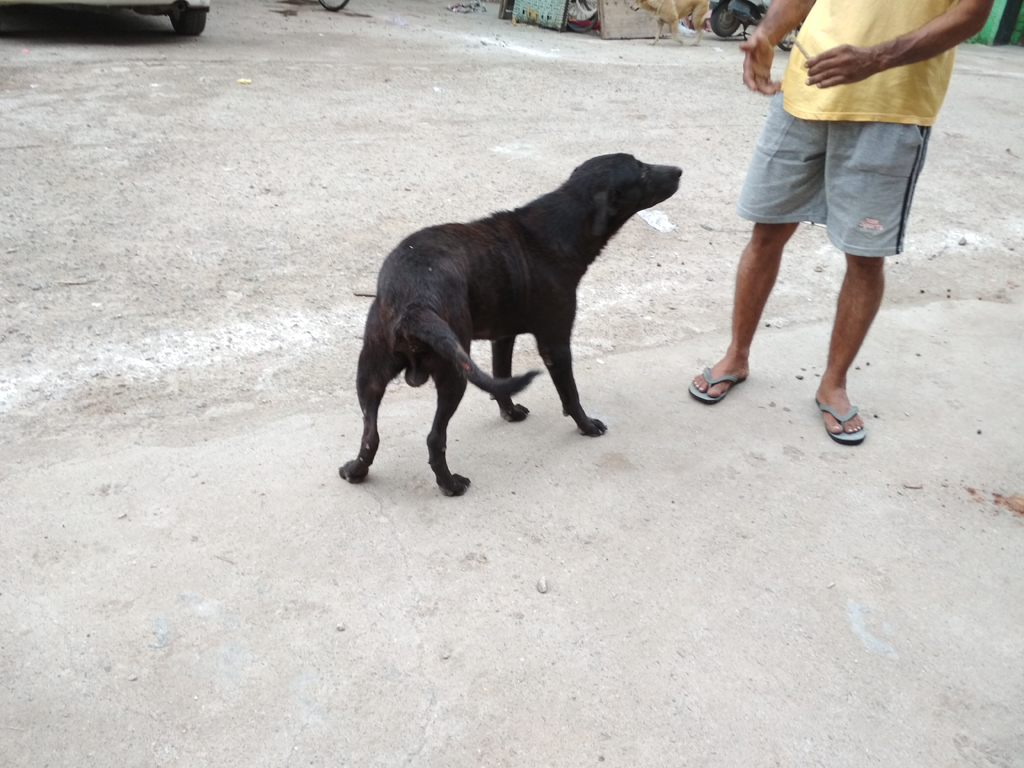dog: (338, 151, 685, 496)
